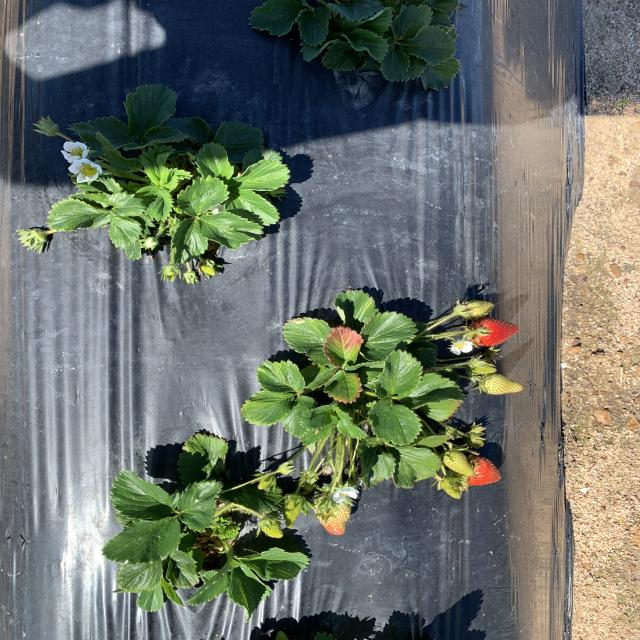unripe: (466, 316, 520, 347), (465, 459, 503, 485)
